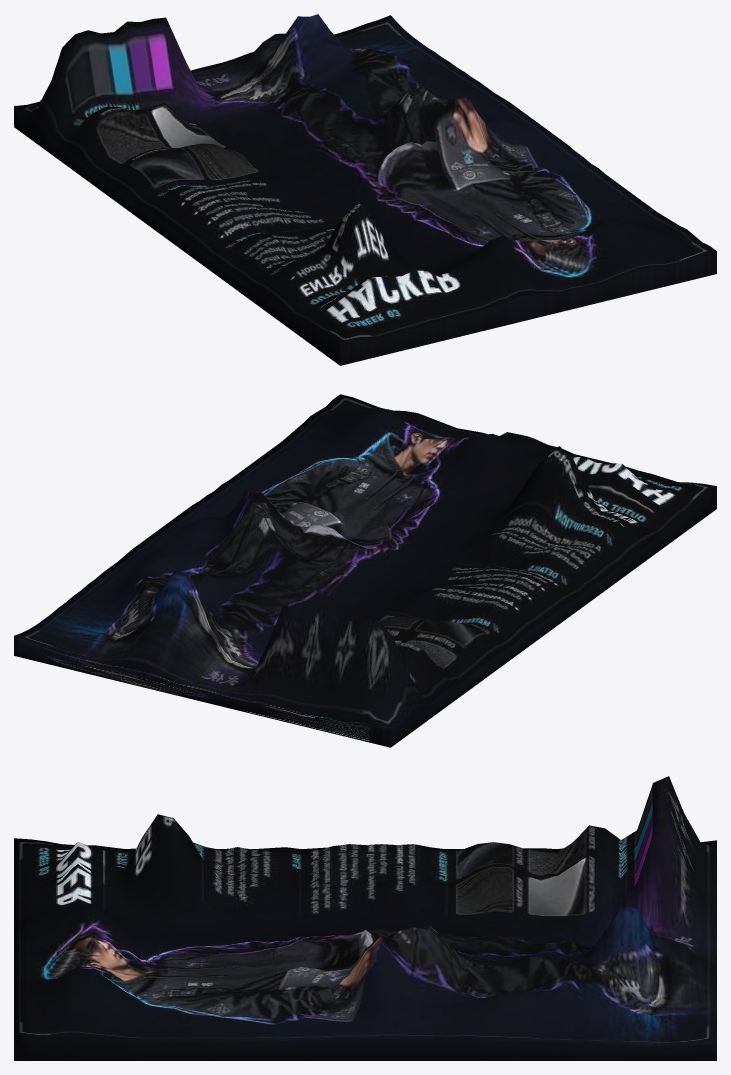
The model's file is CAREER_03_Outfit_01_Entry.glb.
3 views of the same model, one above another, from view 1: azimuth 30°, elevation 25°; view 2: azimuth 150°, elevation 25°; view 3: azimuth 270°, elevation 25° (orthographic). The views are drawn at different scales.
Parts seen in each view (by area): view 1: CAREER_03_Outfit_01_Entry; view 2: CAREER_03_Outfit_01_Entry; view 3: CAREER_03_Outfit_01_Entry.
Part boxes in pixels (x1,y1,x2,y2): CAREER_03_Outfit_01_Entry: [14, 14, 716, 365]; CAREER_03_Outfit_01_Entry: [14, 394, 716, 747]; CAREER_03_Outfit_01_Entry: [14, 776, 716, 1060].
Size of the model in its own units: 2 by 0.51 by 3.
1 material, 1 textured.
